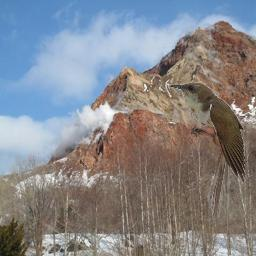Cuckoo: (169, 81, 245, 219)
